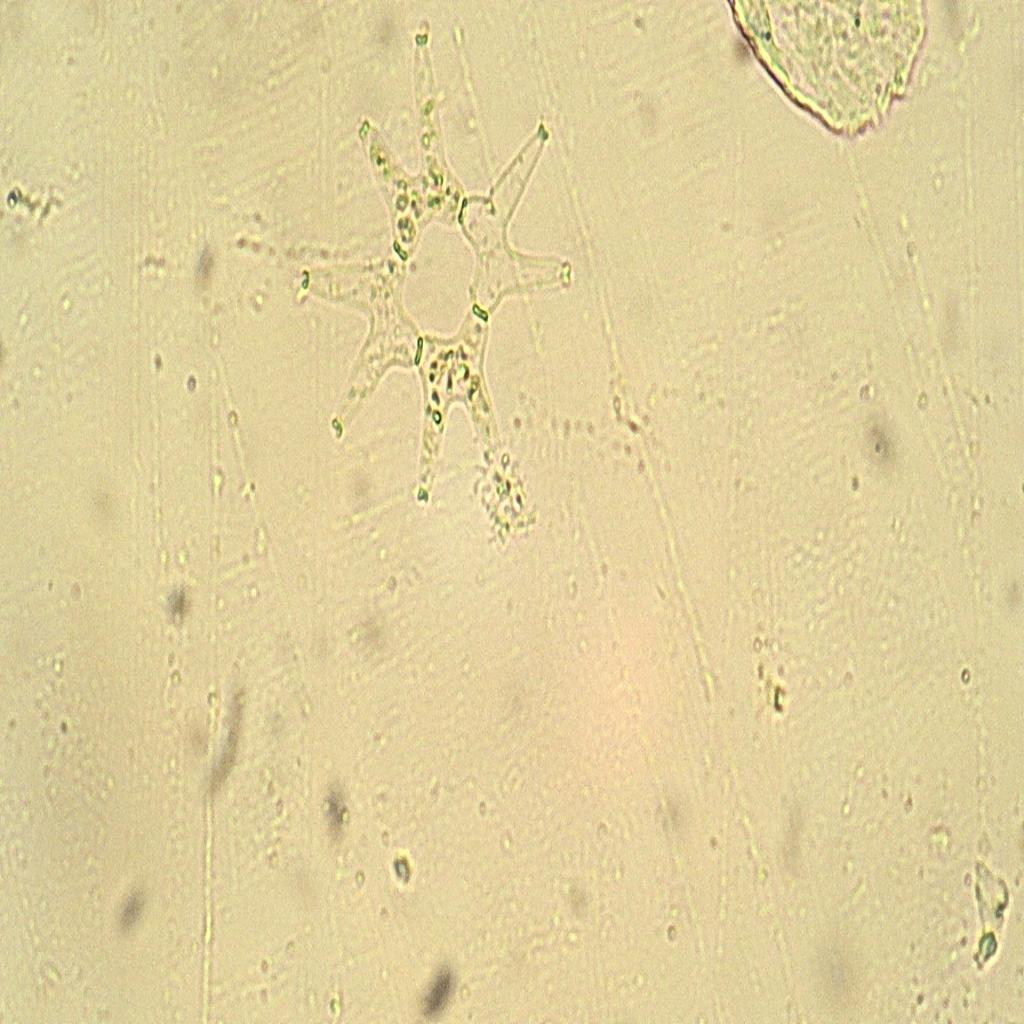Pediastrum_75TH: (275, 14, 583, 594)
